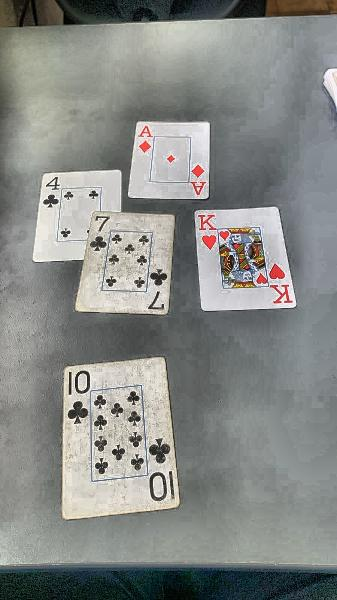10T: (144, 435, 181, 506), (62, 369, 93, 427)
4T: (41, 170, 62, 211)
7T: (146, 266, 170, 313), (87, 214, 112, 254)
AD: (132, 118, 157, 155), (190, 162, 209, 200)
KC: (268, 262, 295, 306), (196, 212, 220, 251)
